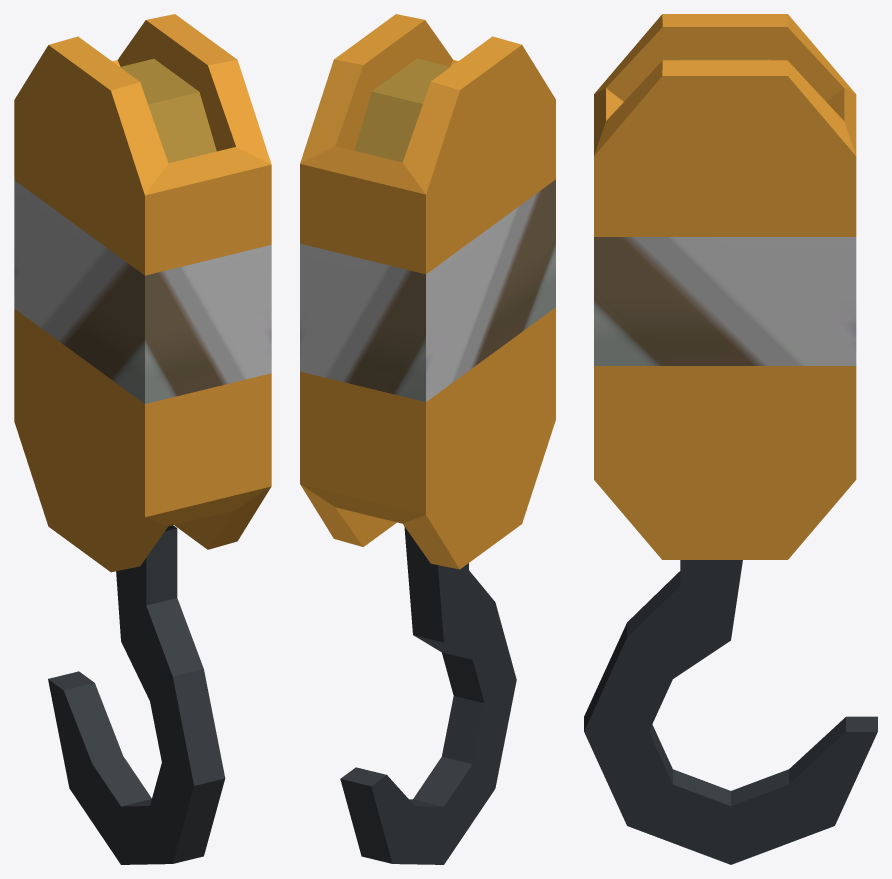
The model's file is SM_Bld_Crane_Hook_01_839.obj.
The picture shows the model from 3 angles, left to right: view 1: azimuth 30°, elevation 25°; view 2: azimuth 150°, elevation 25°; view 3: azimuth 270°, elevation 25°; orthographic projection.
Parts seen in each view (by area): view 1: SM_Bld_Crane_Hook_01_0; view 2: SM_Bld_Crane_Hook_01_0; view 3: SM_Bld_Crane_Hook_01_0.
Boxes of the visible parts, x1,y1,x2,y2 form: SM_Bld_Crane_Hook_01_0: [14, 14, 271, 864]; SM_Bld_Crane_Hook_01_0: [300, 14, 555, 864]; SM_Bld_Crane_Hook_01_0: [584, 14, 877, 864].
Size of the model in its own units: 0.2743 by 1.68 by 0.5485.
Materials: 1 (1 with a texture image).
